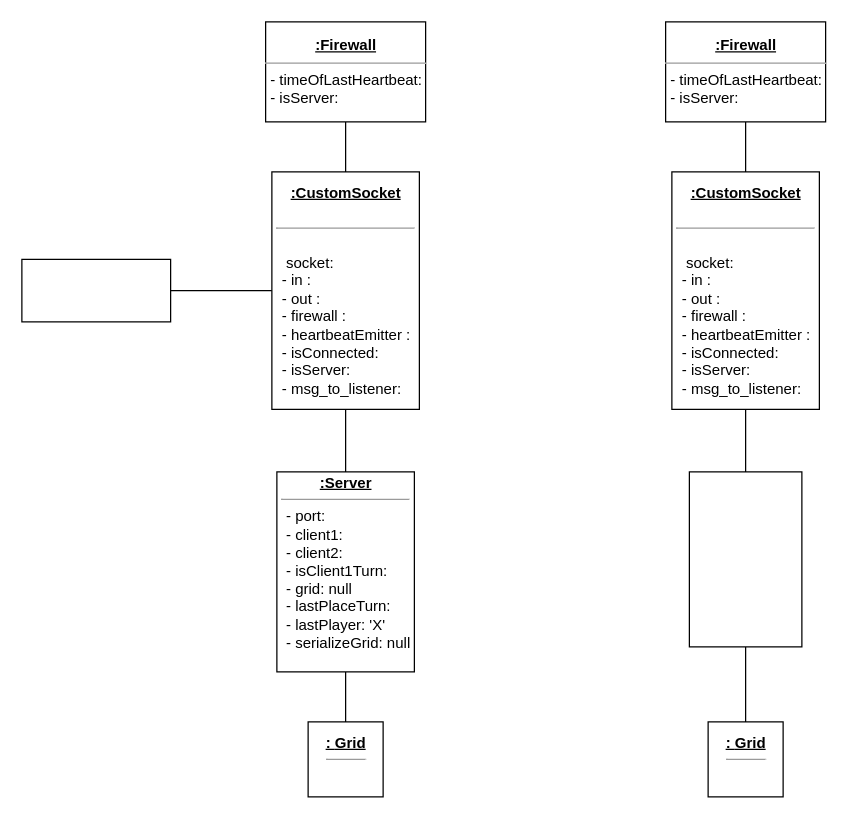
Some shapes in this 848 by 819 pixel diagram are drawn without their labels. The centre of each missing label's shape, as x and y in pixels:
":Client # port : # serverIP : # server : # lastReceived : # grid : # role :" goes at point 745,559.
":HeartbeatEmitter" goes at point 96,290.
